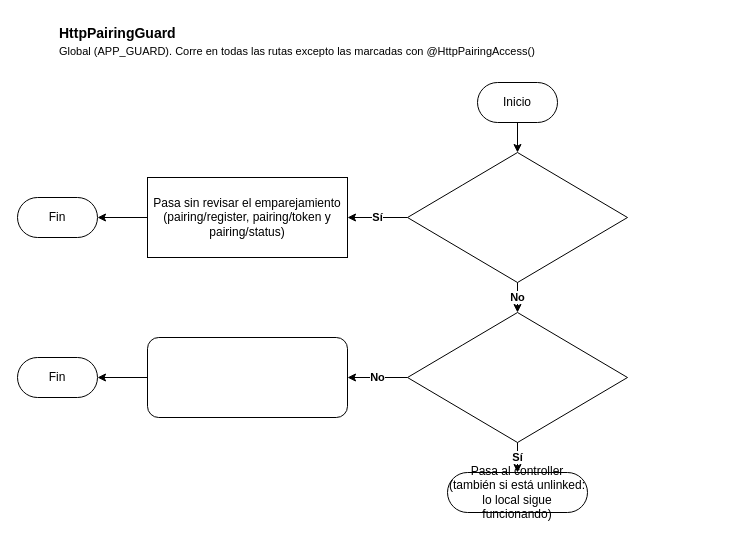
The diagram is 755 pixels wide and 538 high, and some of its shapes have lost their labels. The centre of each missing label's shape, as x and y in pixels:
"Servidor sin emparejar (409) ERROR_SERVER_NOT_PAIRED" belongs at (247,377).
"¿El servidor ya se emparejó alguna vez (pairing_status distinto de unpaired)?" belongs at (517,377).
"¿La ruta tiene @HttpPairingAccess()?" belongs at (517,217).
